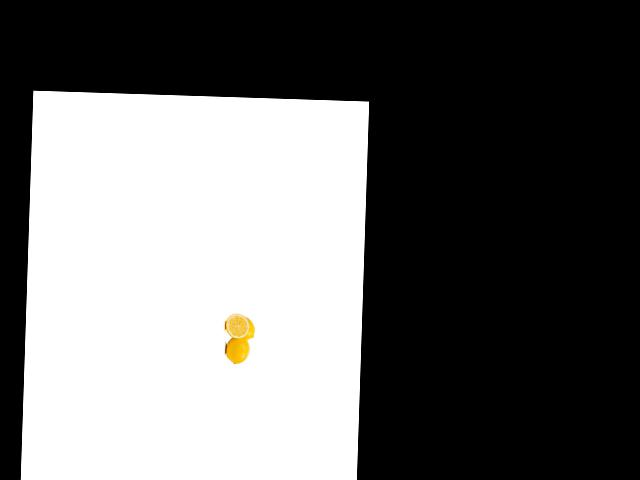lemon: (231, 310, 257, 341)
